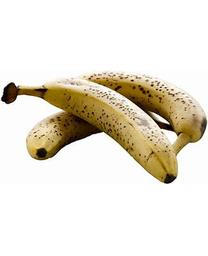banana: (2, 71, 207, 184)
